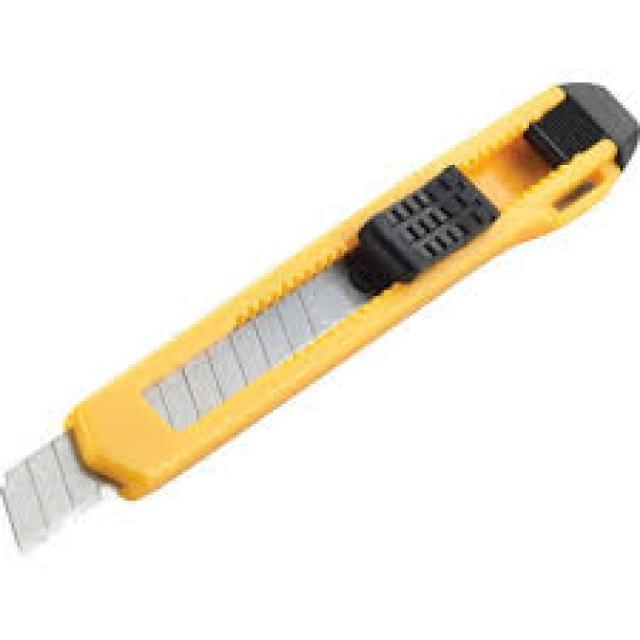cutter: (0, 68, 640, 569)
